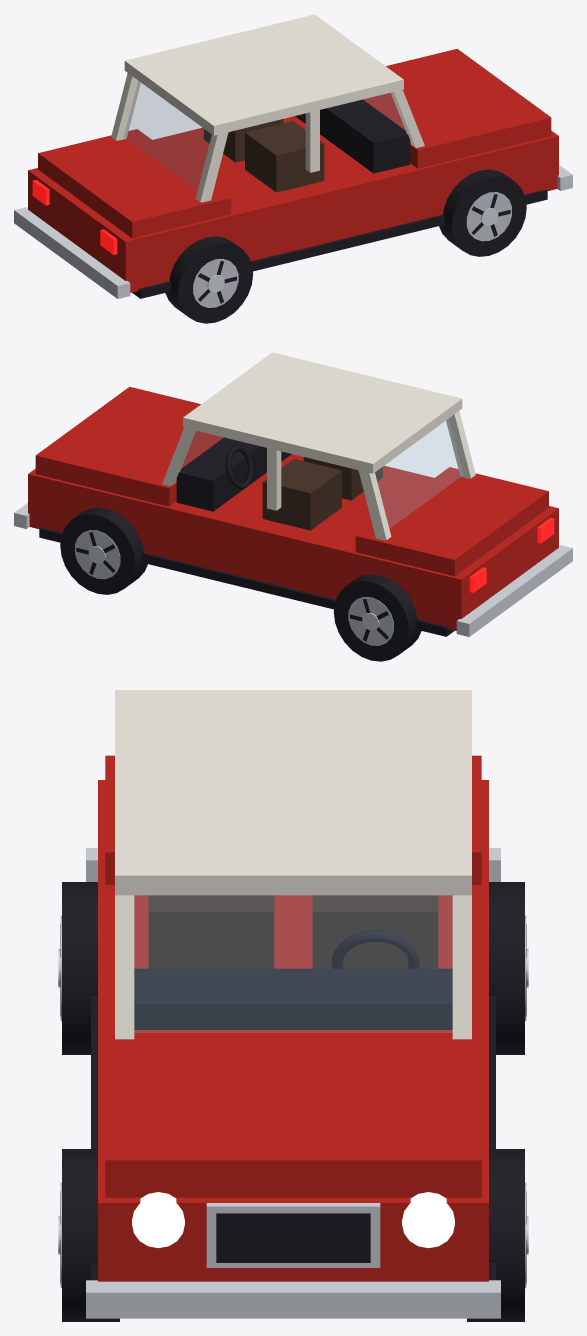
File: sedan.glb
3 renders of one model, top to bottom at view 1: azimuth 30°, elevation 25°; view 2: azimuth 150°, elevation 25°; view 3: azimuth 270°, elevation 25°, orthographic. The views are drawn at different scales.
Parts seen in each view (by area): view 1: Sedan, Wheel_FL, Wheel_RL; view 2: Sedan, Wheel_FR, Wheel_RR; view 3: Sedan, Wheel_RL, Wheel_RR, Wheel_FL, Wheel_FR.
Boxes of the visible parts, x1=… form: Sedan: x1=14, y1=14, x2=572, y2=298; Wheel_FL: x1=439, y1=169, x2=526, y2=256; Wheel_RL: x1=165, y1=236, x2=253, y2=323; Sedan: x1=14, y1=352, x2=572, y2=636; Wheel_FR: x1=60, y1=507, x2=147, y2=594; Wheel_RR: x1=333, y1=574, x2=421, y2=661; Sedan: x1=86, y1=690, x2=500, y2=1318; Wheel_RL: x1=58, y1=882, x2=97, y2=1054; Wheel_RR: x1=489, y1=882, x2=528, y2=1054; Wheel_FL: x1=58, y1=1149, x2=119, y2=1321; Wheel_FR: x1=467, y1=1149, x2=528, y2=1321.
Size of the model in its own units: 4.36 by 1.69 by 1.95.
